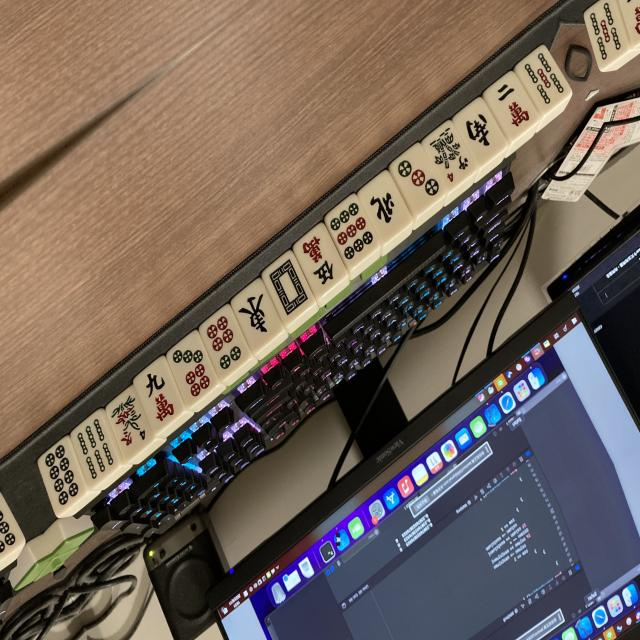bai: (260, 252, 319, 324)
east: (227, 280, 287, 355)
f4: (422, 121, 478, 190)
ff4: (100, 388, 160, 459)
m2: (482, 72, 543, 142)
m5: (288, 226, 350, 302)
m9: (130, 358, 190, 433)
north: (356, 173, 416, 243)
s4: (485, 536, 505, 555)
s5: (514, 45, 572, 115), (582, 0, 634, 70)
s6: (66, 414, 129, 488)
south: (450, 99, 509, 168)
t3: (387, 143, 448, 217)
t6: (195, 305, 255, 379)
t7: (164, 332, 222, 407)
t8: (35, 442, 94, 516), (0, 493, 27, 568)
t9: (322, 197, 383, 270)
